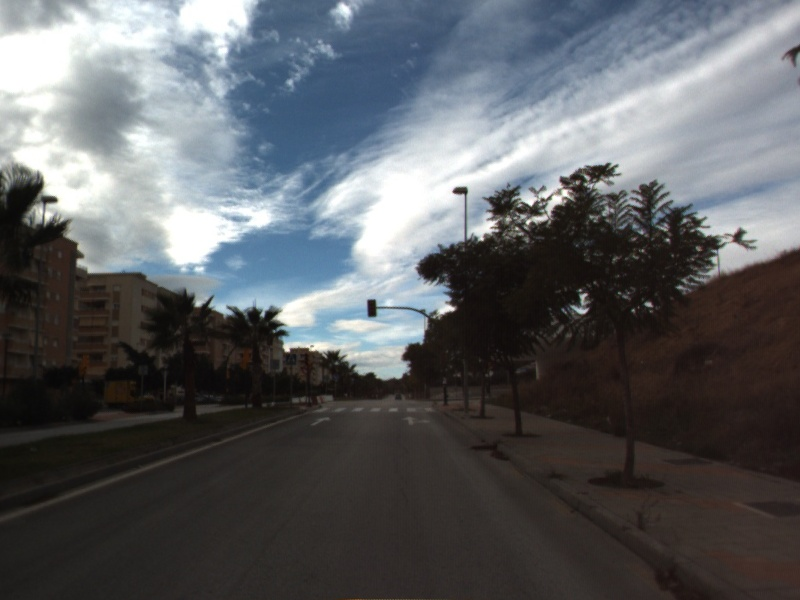STRAIGHT: (309, 414, 333, 427)
STRAIGHT_RIGHT: (399, 414, 433, 427)
